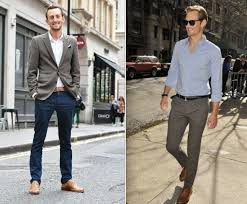F_M_suit jacket: (27, 33, 82, 99)
F_belt: (169, 91, 212, 104), (37, 85, 74, 95)
F_shirt: (166, 32, 229, 110)
